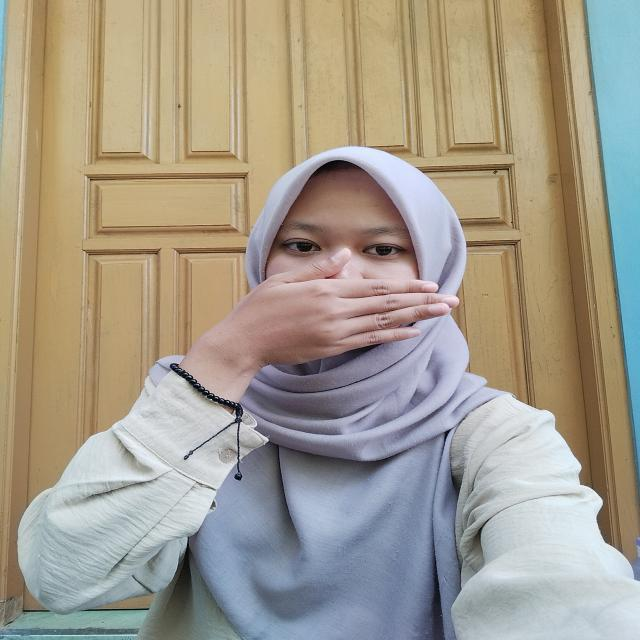buruk: (188, 231, 463, 371)
